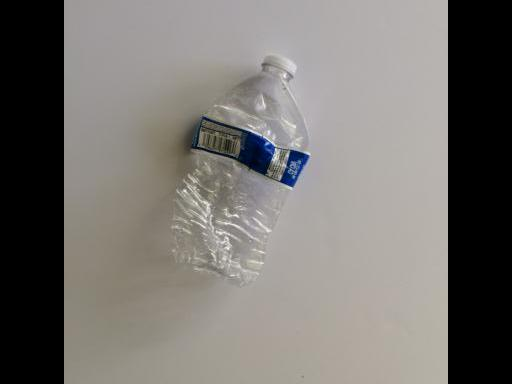bottle: (164, 51, 314, 292)
